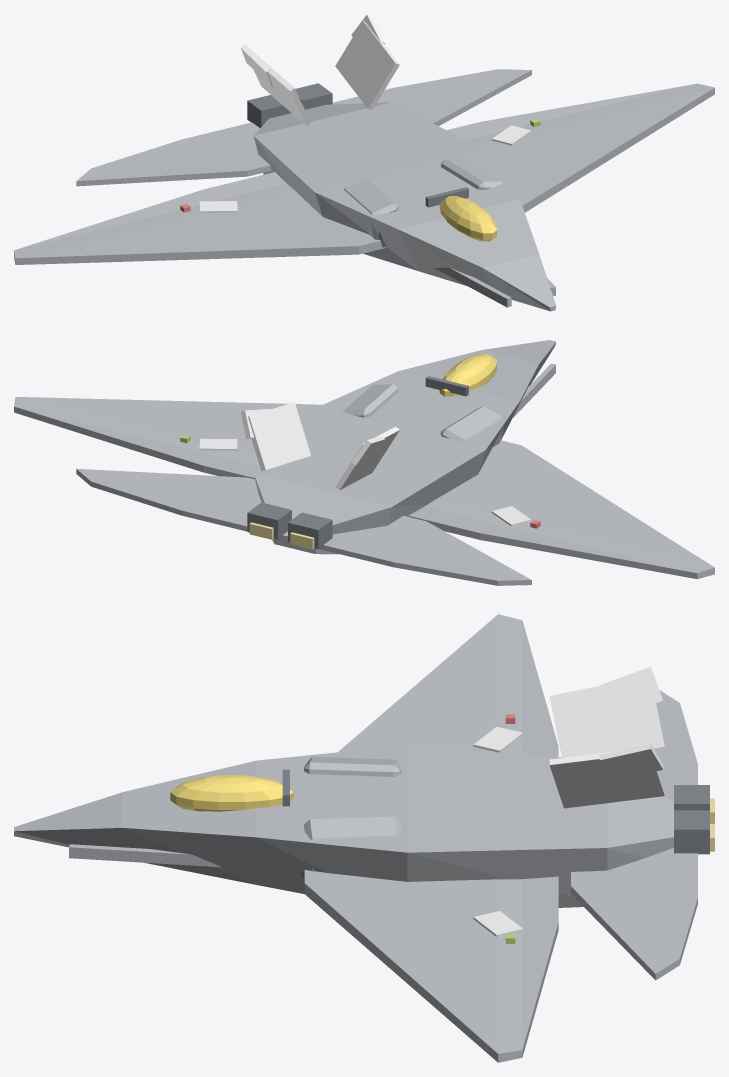
File: fighter.glb
3 renders of one model, top to bottom at view 1: azimuth 30°, elevation 25°; view 2: azimuth 150°, elevation 25°; view 3: azimuth 270°, elevation 25°, orthographic. The views are drawn at different scales.
Parts seen in each view (by area): view 1: main; view 2: main; view 3: main.
Part boxes in pixels (<box>): main: <box>14,14,714,311</box>; main: <box>14,340,714,585</box>; main: <box>14,614,714,1062</box>.
Bounding box in the file's own units: 1.72 × 0.3015 × 1.16.
